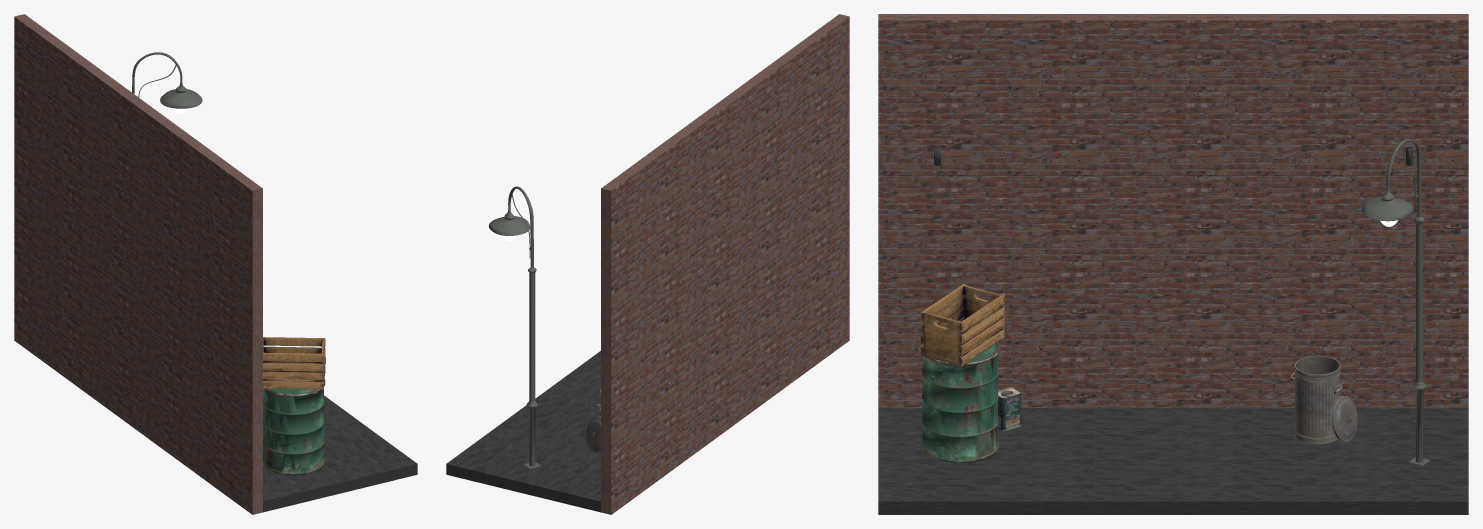
Rendered from neonbrick8glb-v1.glb.
3 views of the same model, side by side, from view 1: azimuth 30°, elevation 25°; view 2: azimuth 150°, elevation 25°; view 3: azimuth 270°, elevation 25° (orthographic). The views are drawn at different scales.
Parts seen in each view (by area): view 1: Cube.001, Cube, Steel-drum, Dirty Cedar White Wood Container, Street Lamp.001; view 2: Cube.001, Cube, Street Lamp.001, Metal Transh Can; view 3: Cube.001, Cube, Steel-drum, Dirty Cedar White Wood Container, Metal Transh Can, Street Lamp.001, Retopo_3DModel_mesh.
Boxes of the visible parts, x1,y1,x2,y2 form: Cube.001: (14, 14, 262, 514); Cube: (263, 395, 417, 512); Steel-drum: (263, 379, 325, 475); Dirty Cedar White Wood Container: (263, 337, 325, 389); Street Lamp.001: (132, 52, 202, 113); Cube.001: (601, 14, 849, 514); Cube: (446, 351, 600, 512); Street Lamp.001: (488, 186, 541, 468); Metal Transh Can: (586, 389, 600, 453); Cube.001: (878, 14, 1468, 407); Cube: (878, 408, 1468, 514); Steel-drum: (918, 342, 999, 462); Dirty Cedar White Wood Container: (920, 284, 1004, 366); Metal Transh Can: (1290, 355, 1357, 444); Street Lamp.001: (1362, 139, 1430, 465); Retopo_3DModel_mesh: (998, 387, 1021, 430).
Size of the model in its own units: 3.2 by 6 by 8.
11 materials, 7 textured.
